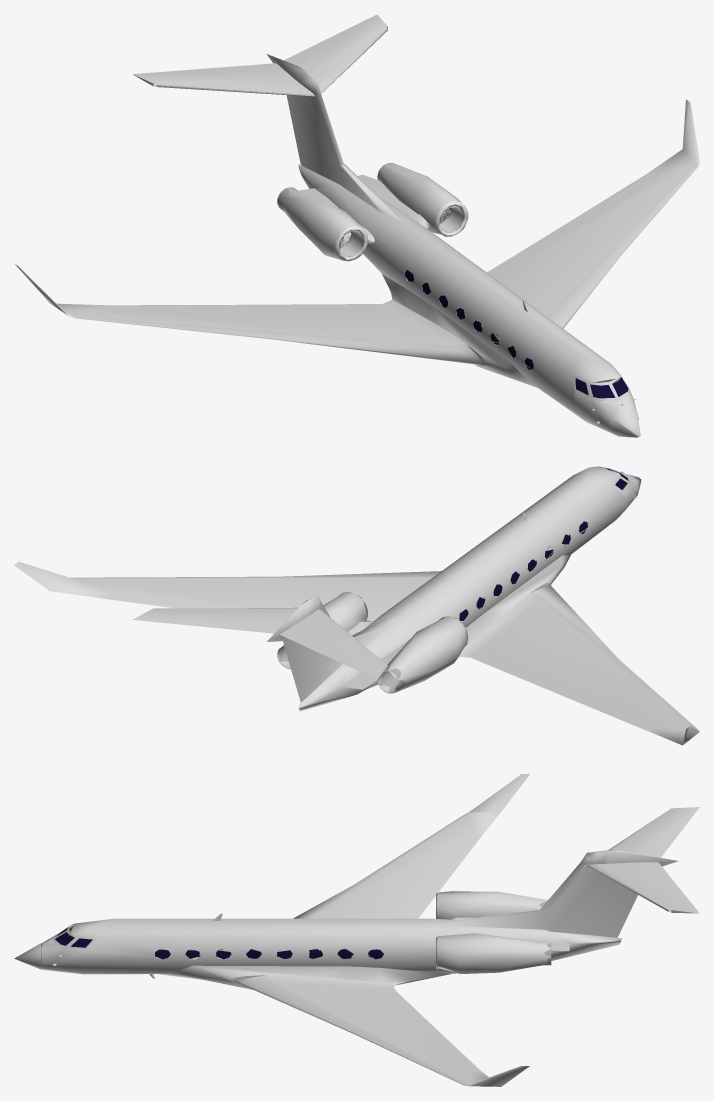
3 renders of one model, top to bottom at view 1: azimuth 30°, elevation 25°; view 2: azimuth 150°, elevation 25°; view 3: azimuth 270°, elevation 25°, orthographic. The views are drawn at different scales.
Visible parts, largest first — view 1: vehicle; view 2: vehicle; view 3: vehicle.
Part boxes in pixels (x1,y1,x2,y2): vehicle: (14, 14, 699, 437); vehicle: (14, 466, 699, 745); vehicle: (14, 774, 699, 1086).
Bounding box in the file's own units: 30.6 × 6.52 × 30.38.
